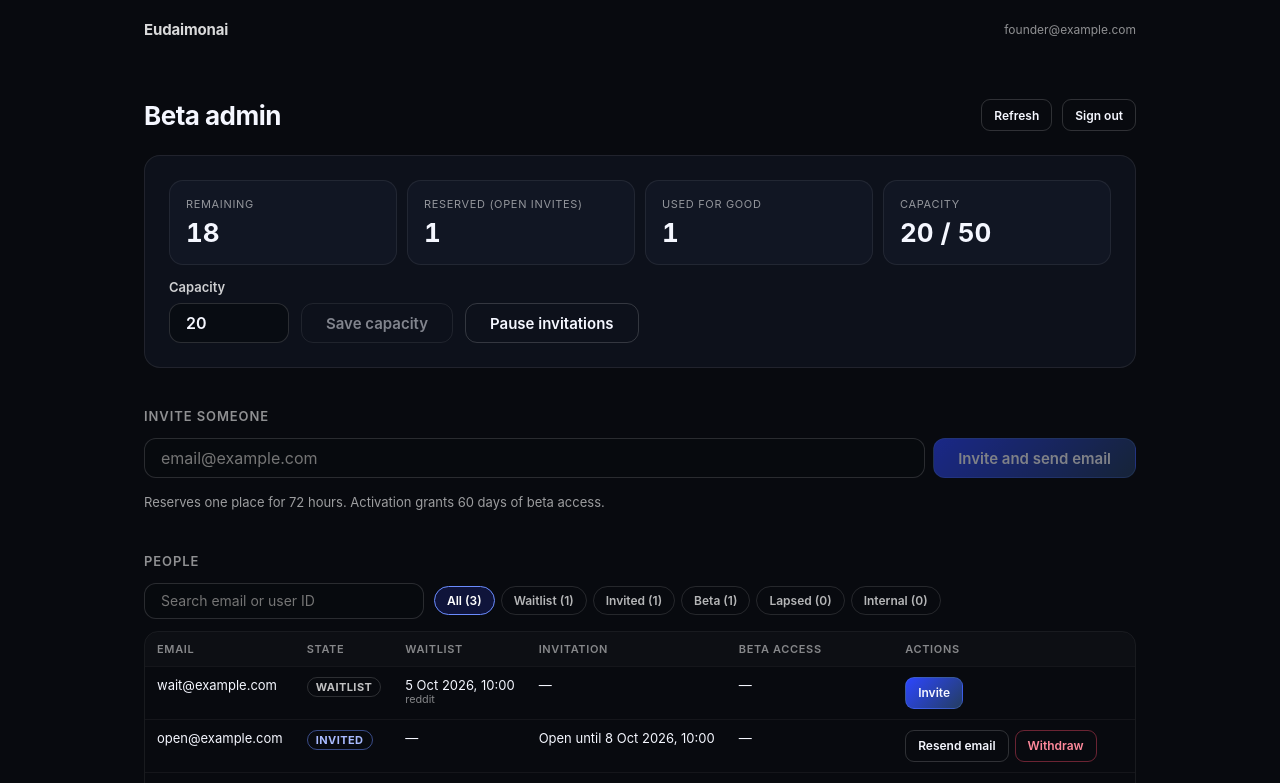
it: AdminConsole › invites, then sends the email, and reports both
Click the button "Invite" at [934, 693], box [905, 677, 963, 709]
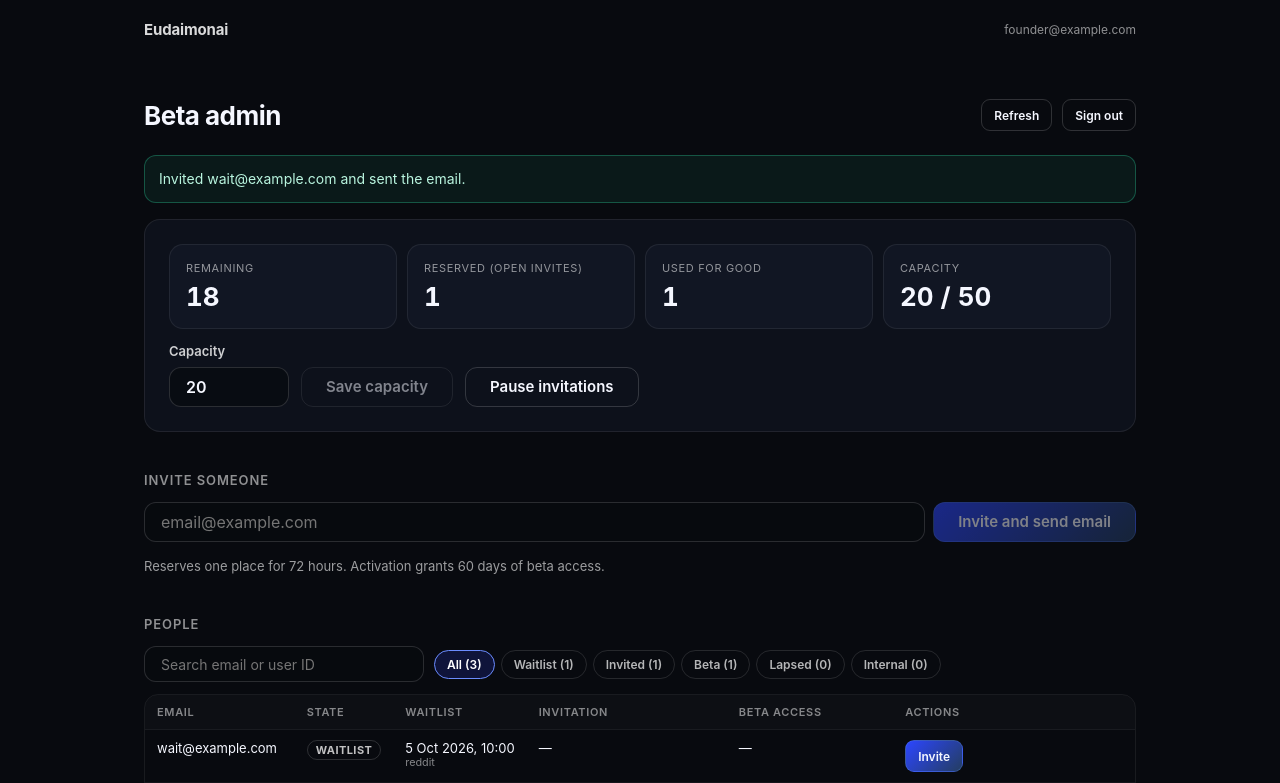
Result: the text "Invited wait@example.com and sent the email." is shown at [144, 155, 1136, 203]
